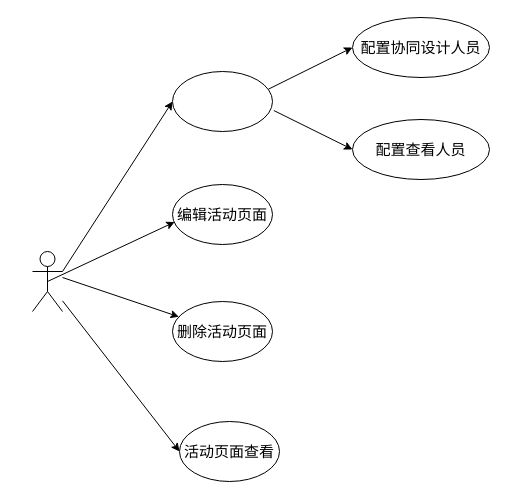
Image size: 507x499. Some labels were removed from this diagram. Each missing label, with the centre of its shape:
"新增活动页面" goes at pixel 222 101.
"系统用户" goes at pixel 47 281.
